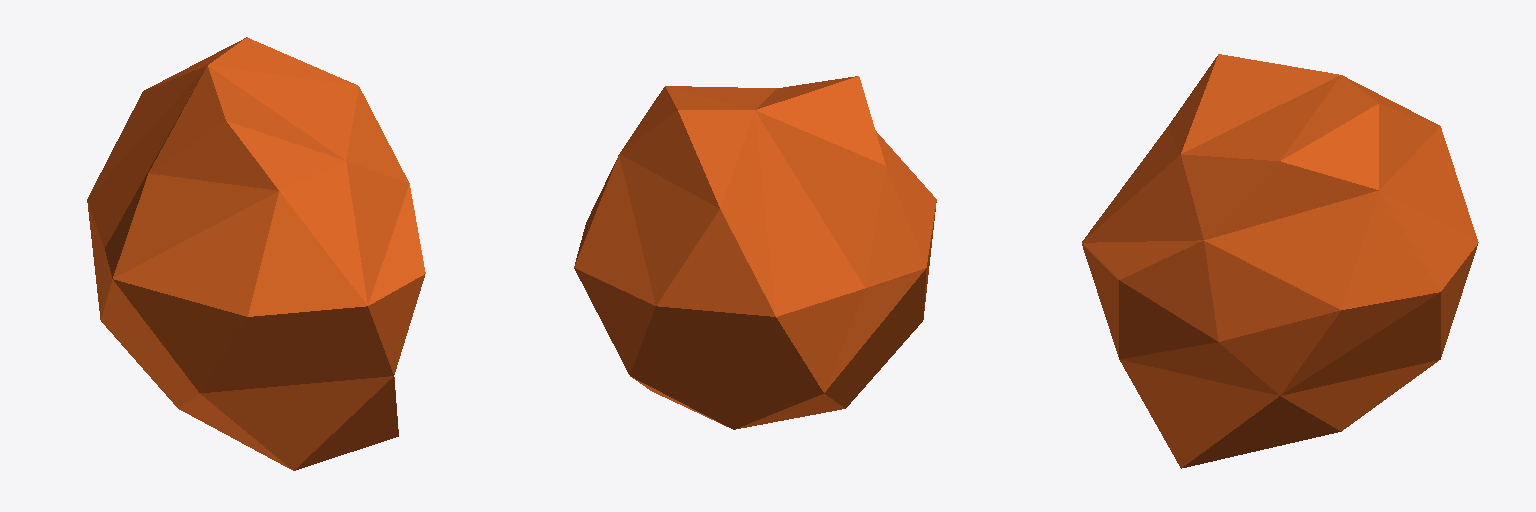
The model's file is Ore_2.obj.
The picture shows the model from 3 angles: view 1: azimuth 30°, elevation 25°; view 2: azimuth 150°, elevation 25°; view 3: azimuth 270°, elevation 25°; orthographic projection.
Visible parts, largest first — view 1: Ore_Icosphere.013; view 2: Ore_Icosphere.013; view 3: Ore_Icosphere.013.
Boxes of the visible parts, <box> form: Ore_Icosphere.013: <box>87,37,425,470</box>; Ore_Icosphere.013: <box>574,76,936,429</box>; Ore_Icosphere.013: <box>1082,54,1478,468</box>.
Size of the model in its own units: 0.0878 by 0.0958 by 0.1.